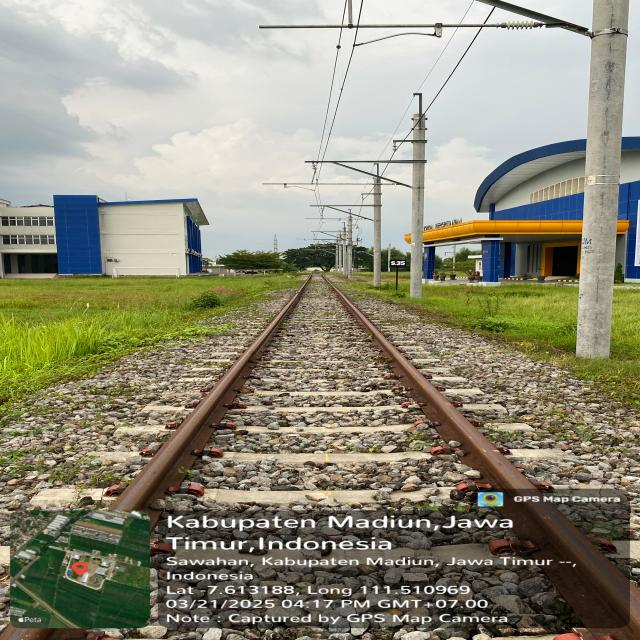rail-detection: (322, 274, 637, 628), (111, 276, 310, 510)
